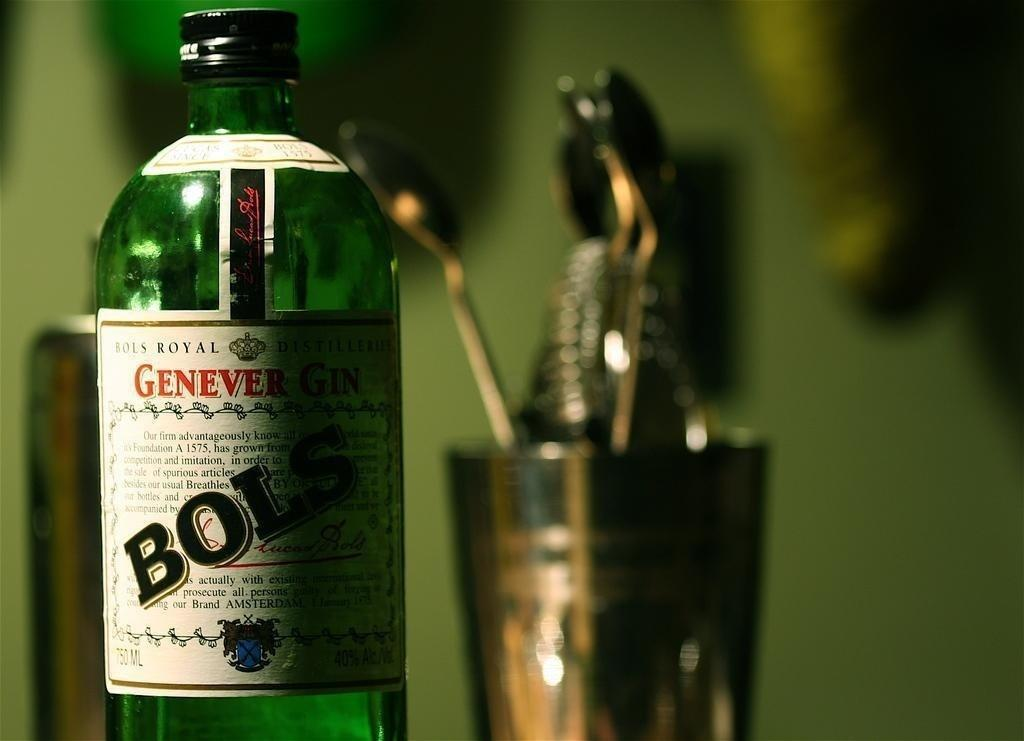bottle-glass: (93, 1, 414, 741)
